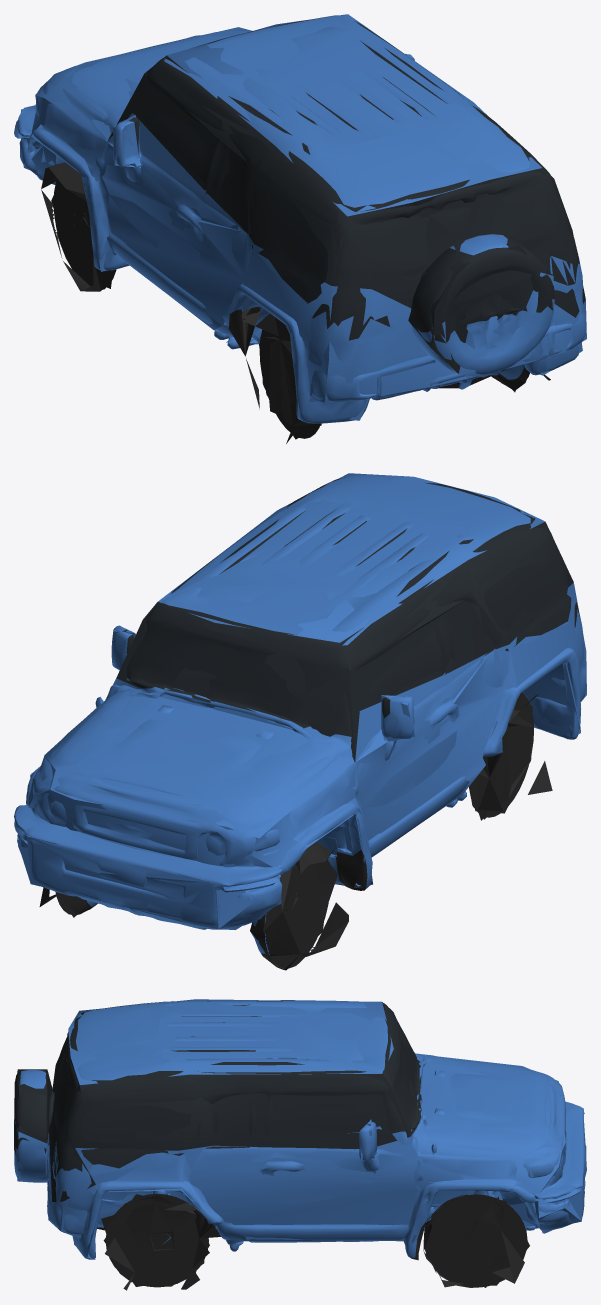
File: toyota-fj-cruiser.glb
3 renders of one model, top to bottom at view 1: azimuth 30°, elevation 25°; view 2: azimuth 150°, elevation 25°; view 3: azimuth 270°, elevation 25°, orthographic. The views are drawn at different scales.
Parts seen in each view (by area): view 1: body, far; view 2: body, far; view 3: body, far.
Part boxes in pixels (box(x1,y1,x2,y2)): body: box(14, 15, 585, 443); far: box(18, 14, 586, 439); body: box(14, 475, 586, 970); far: box(17, 473, 586, 968); body: box(14, 1000, 586, 1290); far: box(14, 999, 586, 1290).
Bounding box in the file's own units: 2.26 × 2 × 4.75.
